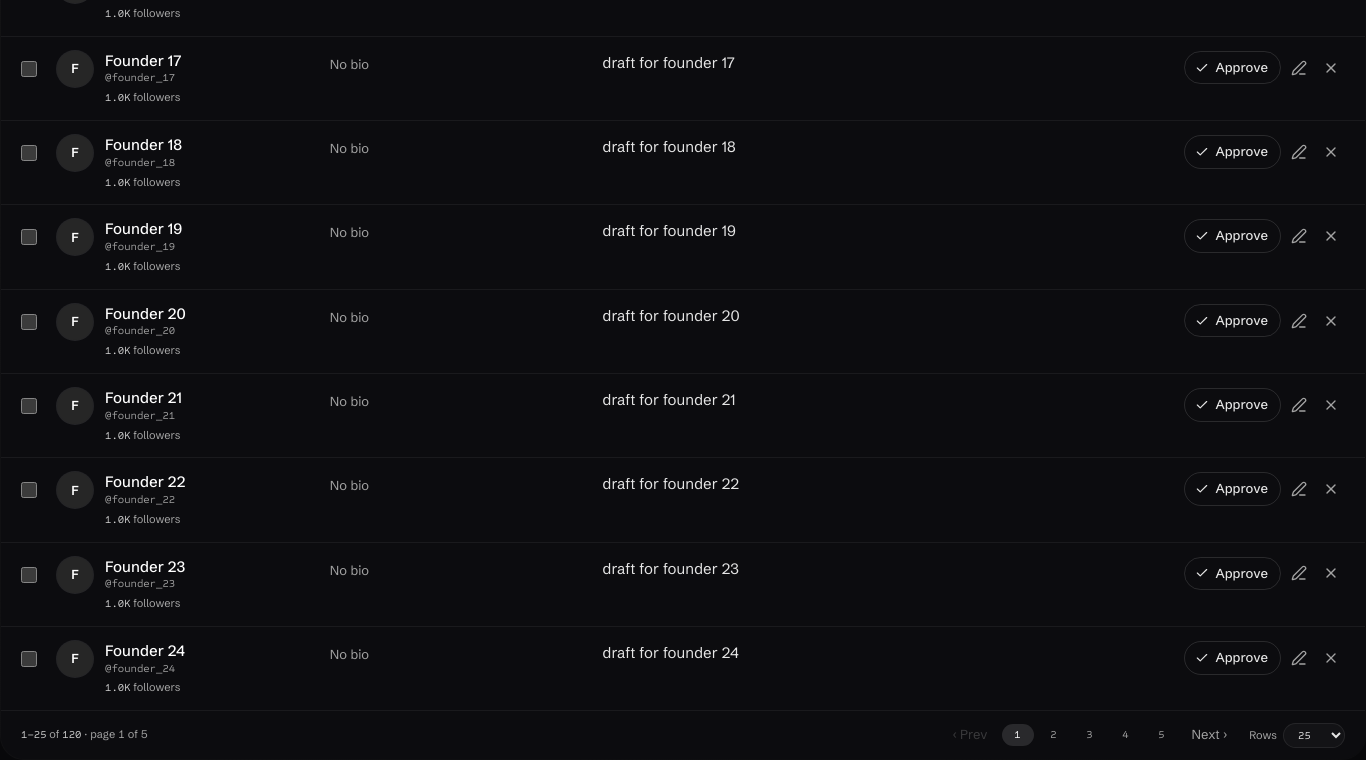
Test case: ApprovalQueue pagination › advances to the next slice of leads
(page scrolled)
Click the button "Next ›". click: (1209,735)
box: [1182,721,1237,749]
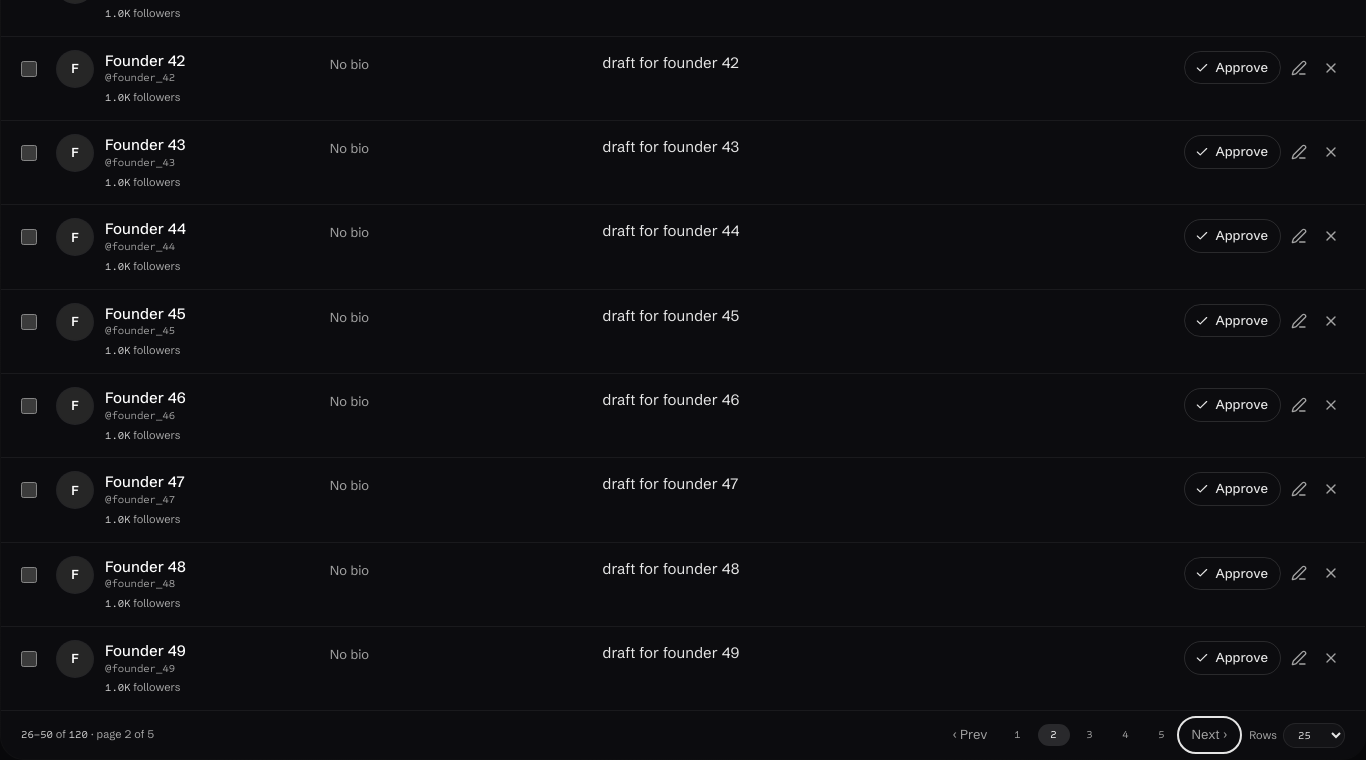
Now the element showing "26–50 of 120 · page 2 of 5" is shown, box [21,727,154,743]
Click the button "5". click: (1162,735)
box: [1146,724,1178,746]
(page scrolled)
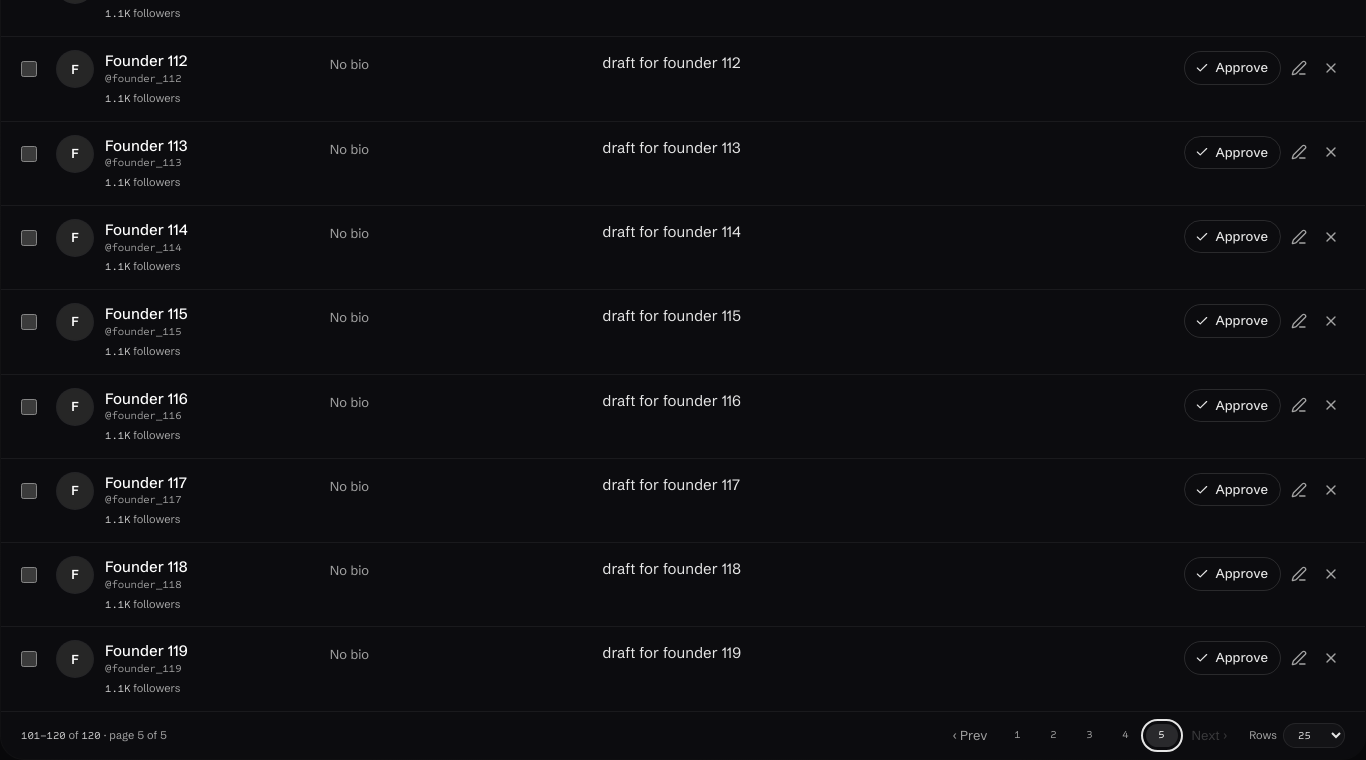
Now the element showing "101–120 of 120 · page 5 of 5" is shown, box [21,728,167,743]
